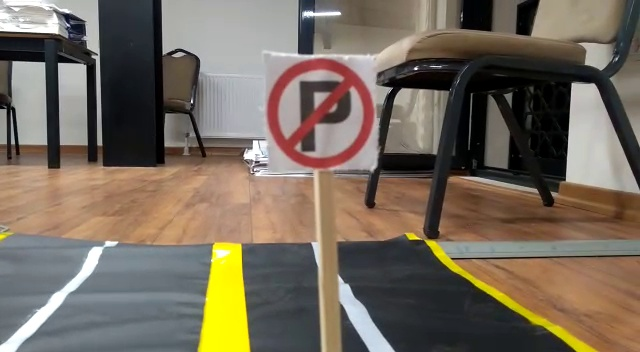park_yapilmaz: (265, 52, 377, 167)
